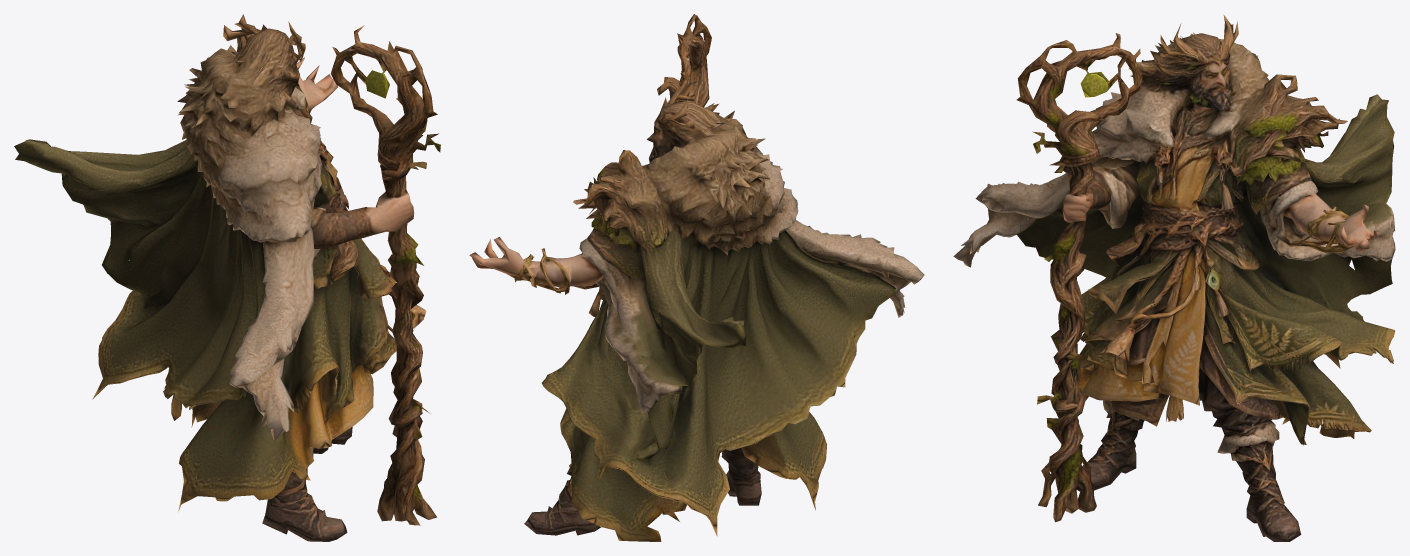
Rendered from hero-druid.glb.
3 renders of one model, left to right at view 1: azimuth 30°, elevation 25°; view 2: azimuth 150°, elevation 25°; view 3: azimuth 270°, elevation 25°, orthographic. The views are drawn at different scales.
Visible parts, largest first — view 1: tripo_node_409ab6e3-0f04-4fd6-99a1-15828cf6c4f6; view 2: tripo_node_409ab6e3-0f04-4fd6-99a1-15828cf6c4f6; view 3: tripo_node_409ab6e3-0f04-4fd6-99a1-15828cf6c4f6.
Boxes of the visible parts, <box> form: tripo_node_409ab6e3-0f04-4fd6-99a1-15828cf6c4f6: <box>14,14,440,541</box>; tripo_node_409ab6e3-0f04-4fd6-99a1-15828cf6c4f6: <box>469,14,924,541</box>; tripo_node_409ab6e3-0f04-4fd6-99a1-15828cf6c4f6: <box>953,14,1395,541</box>.
Bounding box in the file's own units: 0.6467 × 0.9809 × 0.8223.
Materials: 1 (1 with a texture image).
